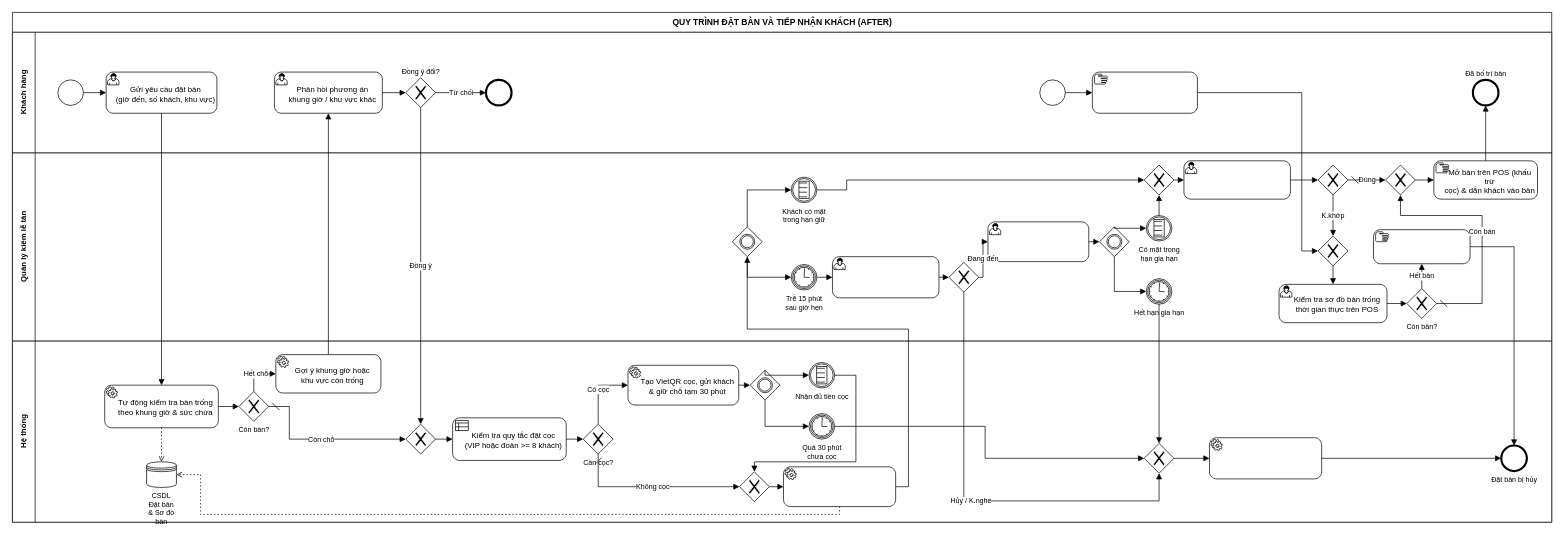
Image size: 1564x539. Some labels were removed from this diagram. The centre of each missing label's shape, as x and y in pixels:
Báo hết bàn / hẹn chờ: the point at 1421,246
Báo số lượng khách không đặt trước: the point at 1144,92
Còn đến?: the point at 963,277
Gia hạn giữ bàn 1 lần (10 phút) trên hệ thống: the point at 1038,241
Hợp lệ?: the point at 1332,179
Không chốt được giờ: the point at 498,92
Lưu mã đặt bàn, khóa giữ bàn & gửi tin xác nhận: the point at 839,486
Muốn đặt bàn trước: the point at 70,92
Nhận cảnh báo trễ & gọi xác nhận khách còn đến: the point at 885,277
Tra cứu SĐT / Mã đặt bàn & đối chiếu trên hệ thống: the point at 1236,179
Tự động hủy đơn quá hạn & giải phóng bàn trống: the point at 1265,458
Đến quán trực tiếp: the point at 1052,92
